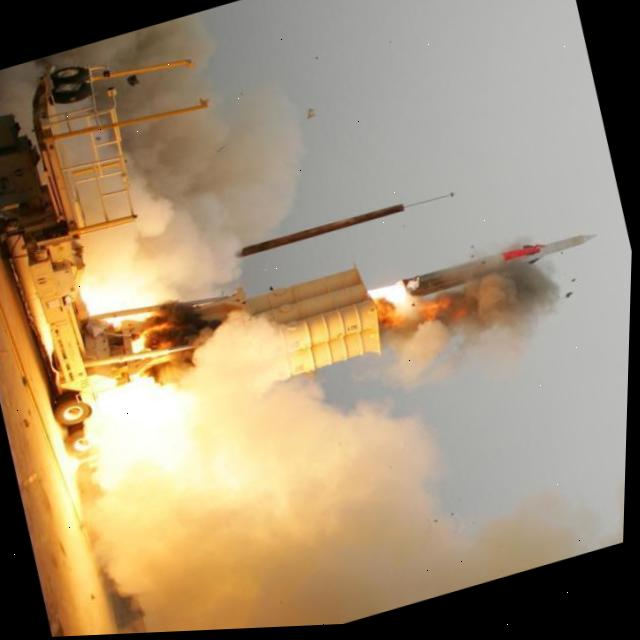missile: (403, 222, 606, 319)
